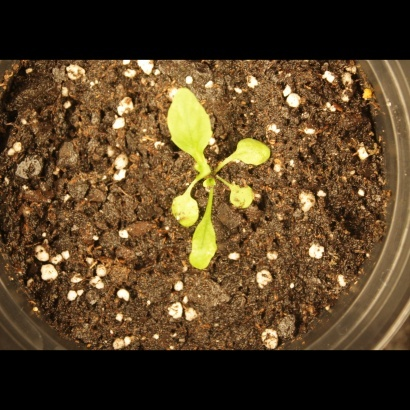leaf: (156, 76, 219, 161), (190, 192, 226, 273), (225, 134, 280, 173), (163, 181, 201, 227), (225, 179, 259, 215)
